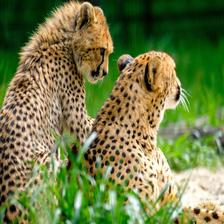Cheetah: (0, 0, 115, 222), (78, 51, 223, 222)
